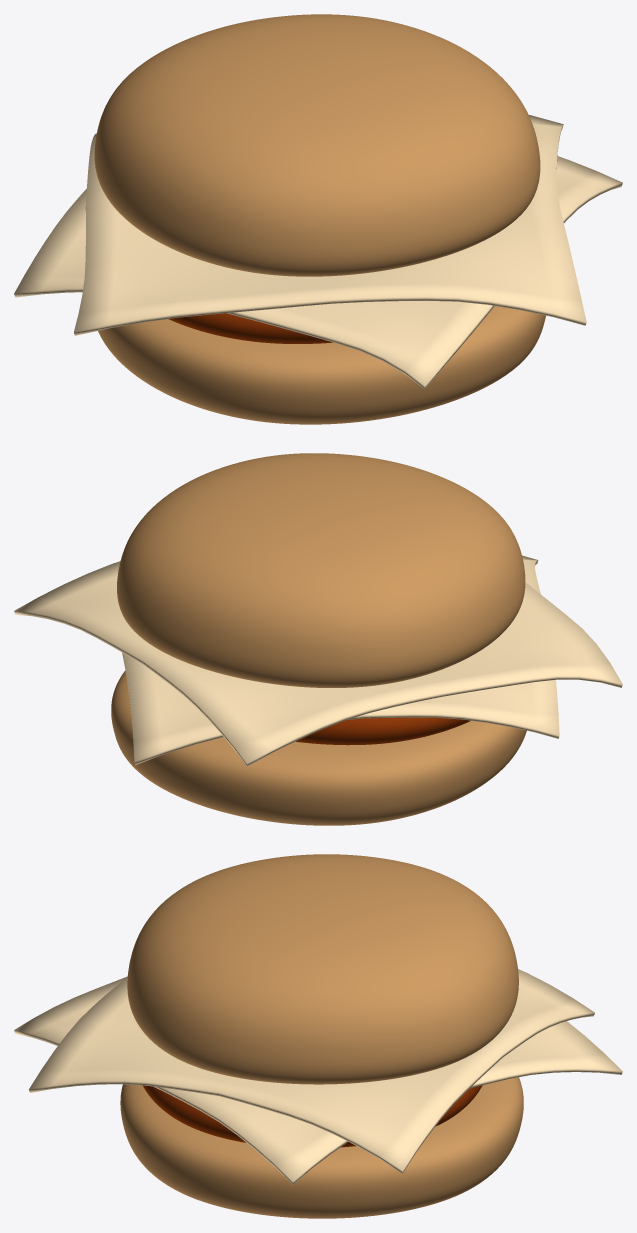
The model's file is burger.gltf.
The picture shows the model from 3 angles, top to bottom: view 1: azimuth 30°, elevation 25°; view 2: azimuth 150°, elevation 25°; view 3: azimuth 270°, elevation 25°; orthographic projection. The views are drawn at different scales.
Parts seen in each view (by area): view 1: Cube.001, Plane.001, Cube, Plane, Cube.002; view 2: Cube.001, Plane.001, Cube, Plane, Cube.002; view 3: Cube.001, Plane.001, Cube, Plane, Cube.002.
Boxes of the visible parts, x1,y1,x2,y2 form: Cube.001: (94,14,540,276); Plane.001: (74,115,586,335); Cube: (98,306,545,424); Plane: (14,156,622,389); Cube.002: (168,313,332,343); Cube.001: (117,453,525,687); Plane.001: (14,561,622,766); Cube: (111,671,526,825); Plane: (122,555,559,764); Cube.002: (296,717,470,745); Cube.001: (127,854,518,1084); Plane.001: (29,969,594,1173); Cube: (120,1077,523,1218); Plane: (14,976,622,1184); Cube.002: (143,1085,482,1147).
Bounding box in the file's own units: 13.56 × 6.66 × 13.82.
